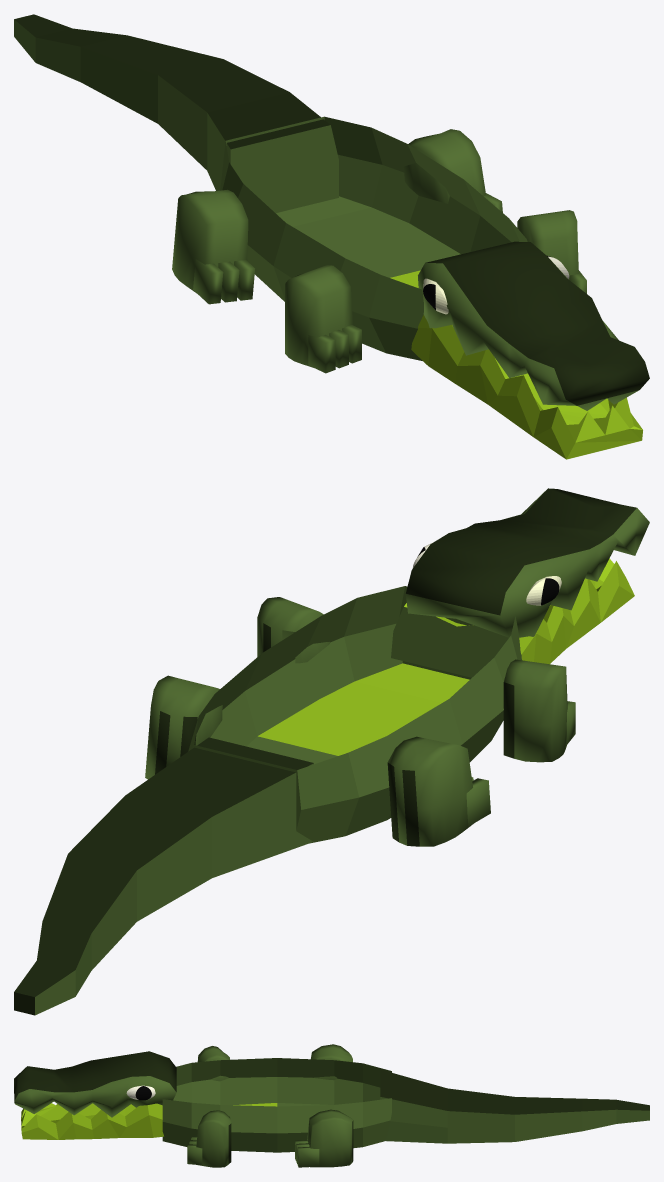
File: JACARÉ.fbx
3 views of the same model, one above another, from view 1: azimuth 30°, elevation 25°; view 2: azimuth 150°, elevation 25°; view 3: azimuth 270°, elevation 25° (orthographic). The views are drawn at different scales.
Parts seen in each view (by area): view 1: Cubo.005, Cubo.001, Cubo; view 2: Cubo.005, Cubo.001, Cubo, Esfera UV; view 3: Cubo.005, Cubo.001, Cubo, Esfera UV.001.
Boxes of the visible parts, x1,y1,x2,y2 form: Cubo.005: (14,14,586,373); Cubo.001: (418,241,649,410); Cubo: (411,315,642,459); Cubo.005: (14,586,575,1015); Cubo.001: (405,488,649,637); Cubo: (391,558,634,677); Esfera UV: (526,576,561,605); Cubo.005: (162,1044,649,1167); Cubo.001: (14,1051,176,1117); Cubo: (21,1103,163,1139); Esfera UV.001: (126,1085,155,1100).
Size of the model in its own units: 238 by 98.46 by 790.
